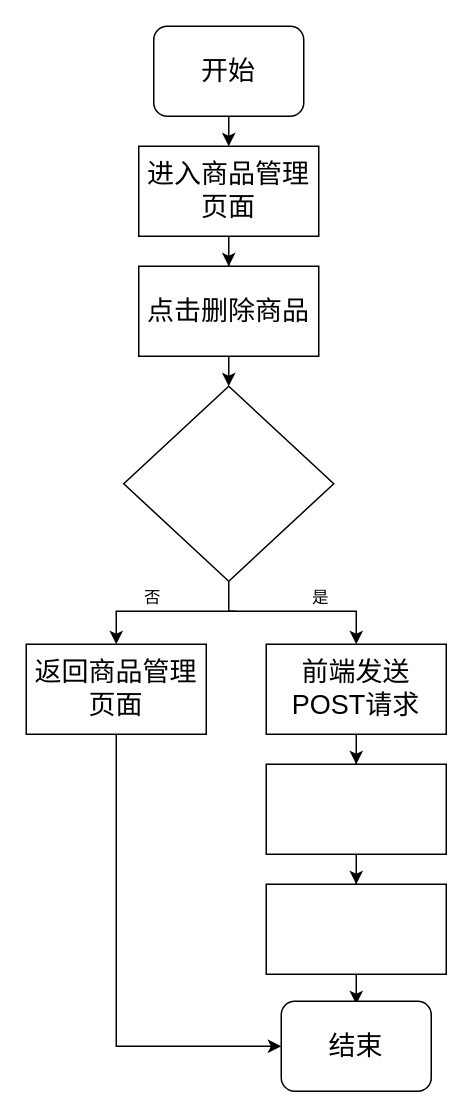
Image size: 473x1118. Some labels were removed from this diagram. The shapes that lost their labels are listed below. From the top down, each one's centre as x and y in pixels, then its label:
(x=228, y=483): 确认是否删除？
(x=355, y=808): 后端接收请求
(x=355, y=928): 前端提示删除成功
